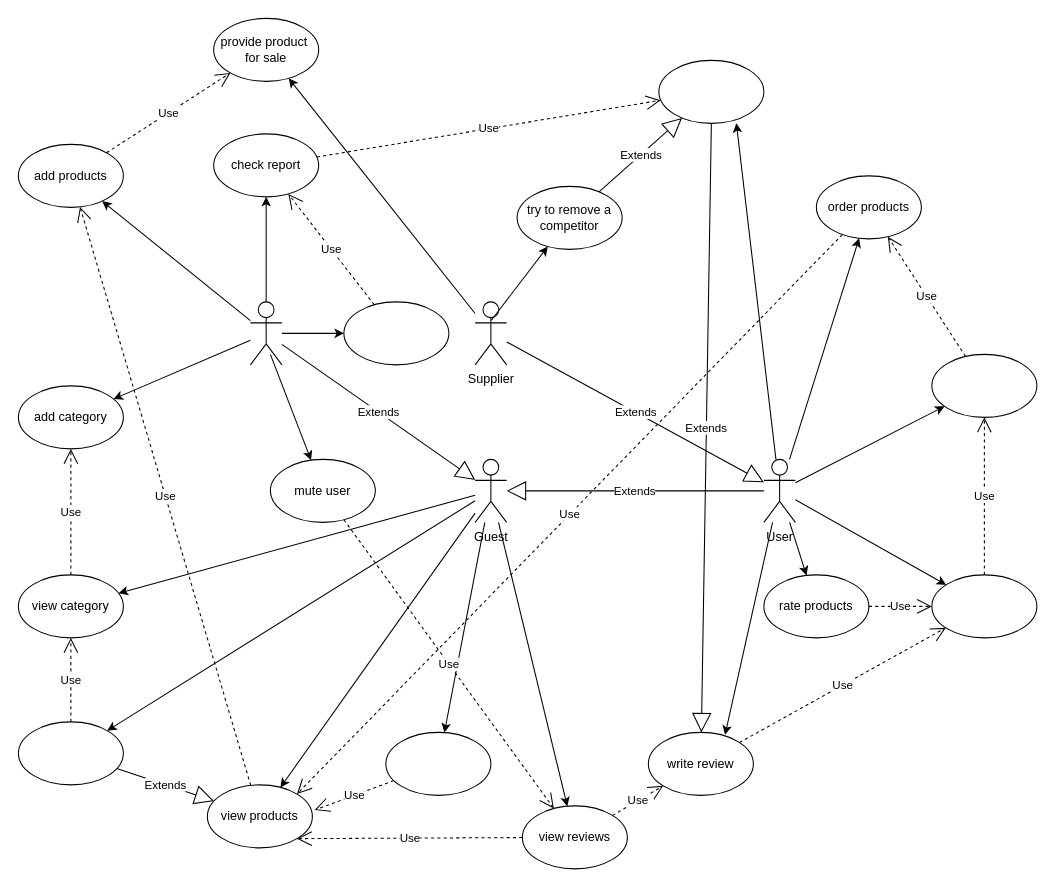
This 1055x887 diagram has some shape labels left out. The shapes that lost their labels are listed below. From the top down, each one's centre as x and y in pixels, then its label:
(x=711, y=91): report supplier
(x=265, y=333): Admin
(x=396, y=333): ban supplier
(x=984, y=385): make a payment
(x=984, y=606): receive products
(x=70, y=753): search by filter
(x=438, y=763): view the rating
